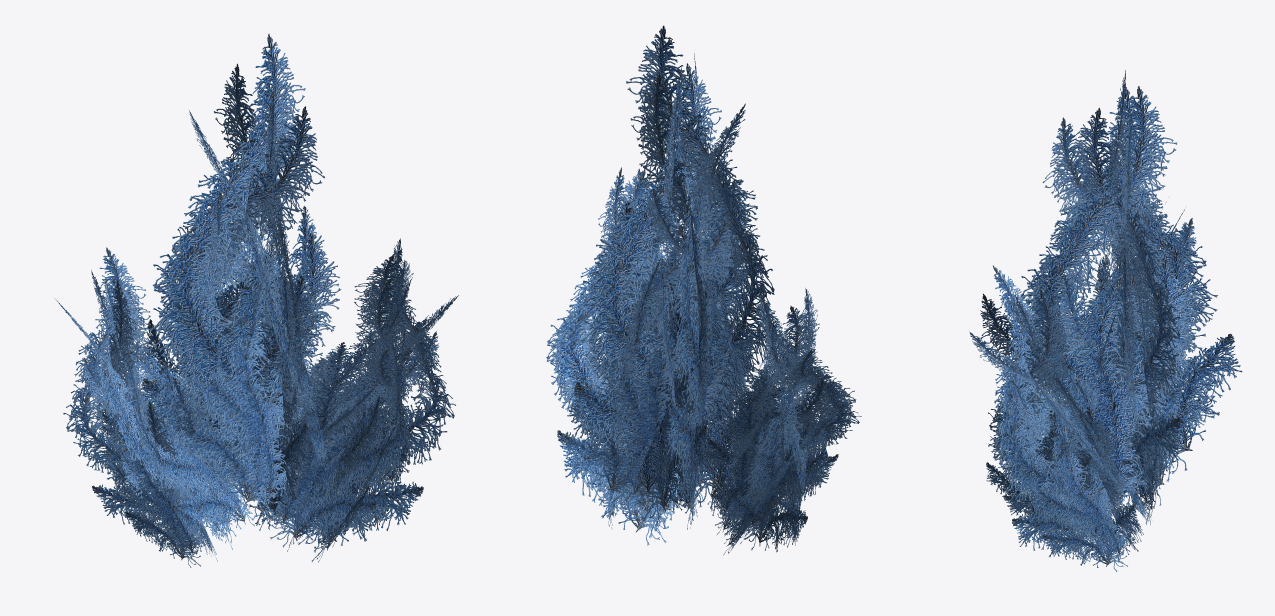
File: plante_5_4.FBX
The picture shows the model from 3 angles, left to right: view 1: azimuth 30°, elevation 25°; view 2: azimuth 150°, elevation 25°; view 3: azimuth 270°, elevation 25°; orthographic projection. The views are drawn at different scales.
Parts seen in each view (by area): view 1: Plane448; view 2: Plane448; view 3: Plane448.
Boxes of the visible parts, box(x1,y1,x2,y2) form: Plane448: box(55, 33, 458, 567); Plane448: box(546, 25, 861, 555); Plane448: box(969, 70, 1242, 571).
Size of the model in its own units: 293 by 370 by 222.
Materials: 1 (1 with a texture image).
